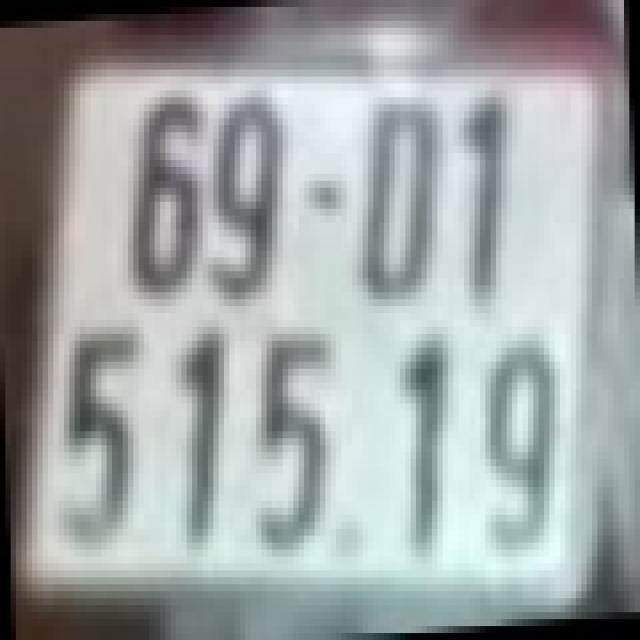1: (176, 327, 224, 550), (400, 334, 448, 556), (458, 97, 506, 306)
5: (64, 327, 139, 543), (256, 334, 331, 549)
6: (133, 98, 203, 292)
9: (208, 98, 283, 299), (485, 341, 555, 549)
D: (363, 98, 437, 299)
